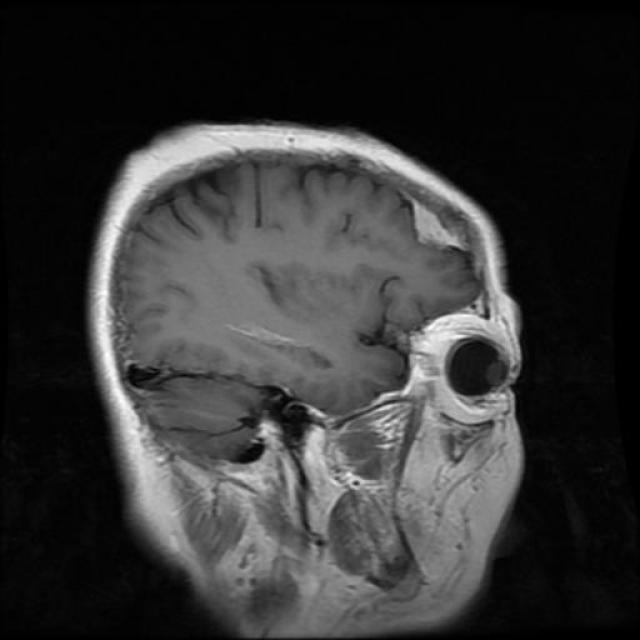meningioma: (411, 200, 471, 251)
